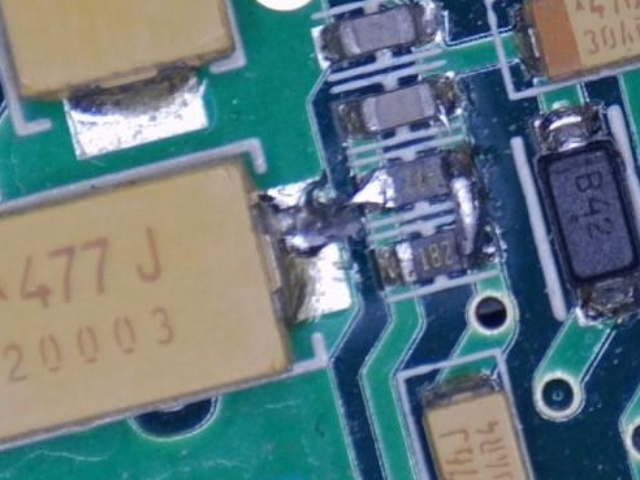pcb_defect: (259, 166, 400, 324), (426, 143, 501, 269)
